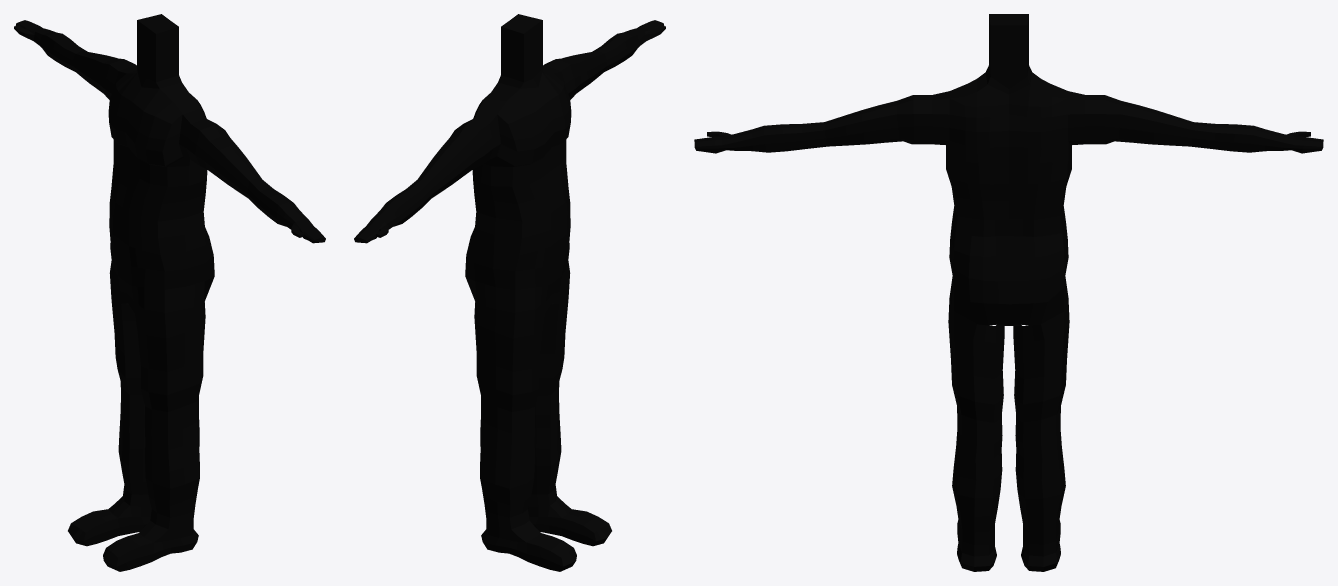
Rendered from player.gltf.
3 renders of one model, left to right at view 1: azimuth 30°, elevation 25°; view 2: azimuth 150°, elevation 25°; view 3: azimuth 270°, elevation 25°, orthographic. The views are drawn at different scales.
Parts seen in each view (by area): view 1: Player; view 2: Player; view 3: Player.
Part boxes in pixels (x1=…): Player: x1=14, y1=14, x2=325, y2=571; Player: x1=354, y1=14, x2=665, y2=571; Player: x1=694, y1=14, x2=1323, y2=571.
Size of the model in its own units: 0.8504 by 3.75 by 3.91.
1 material, 1 textured.
